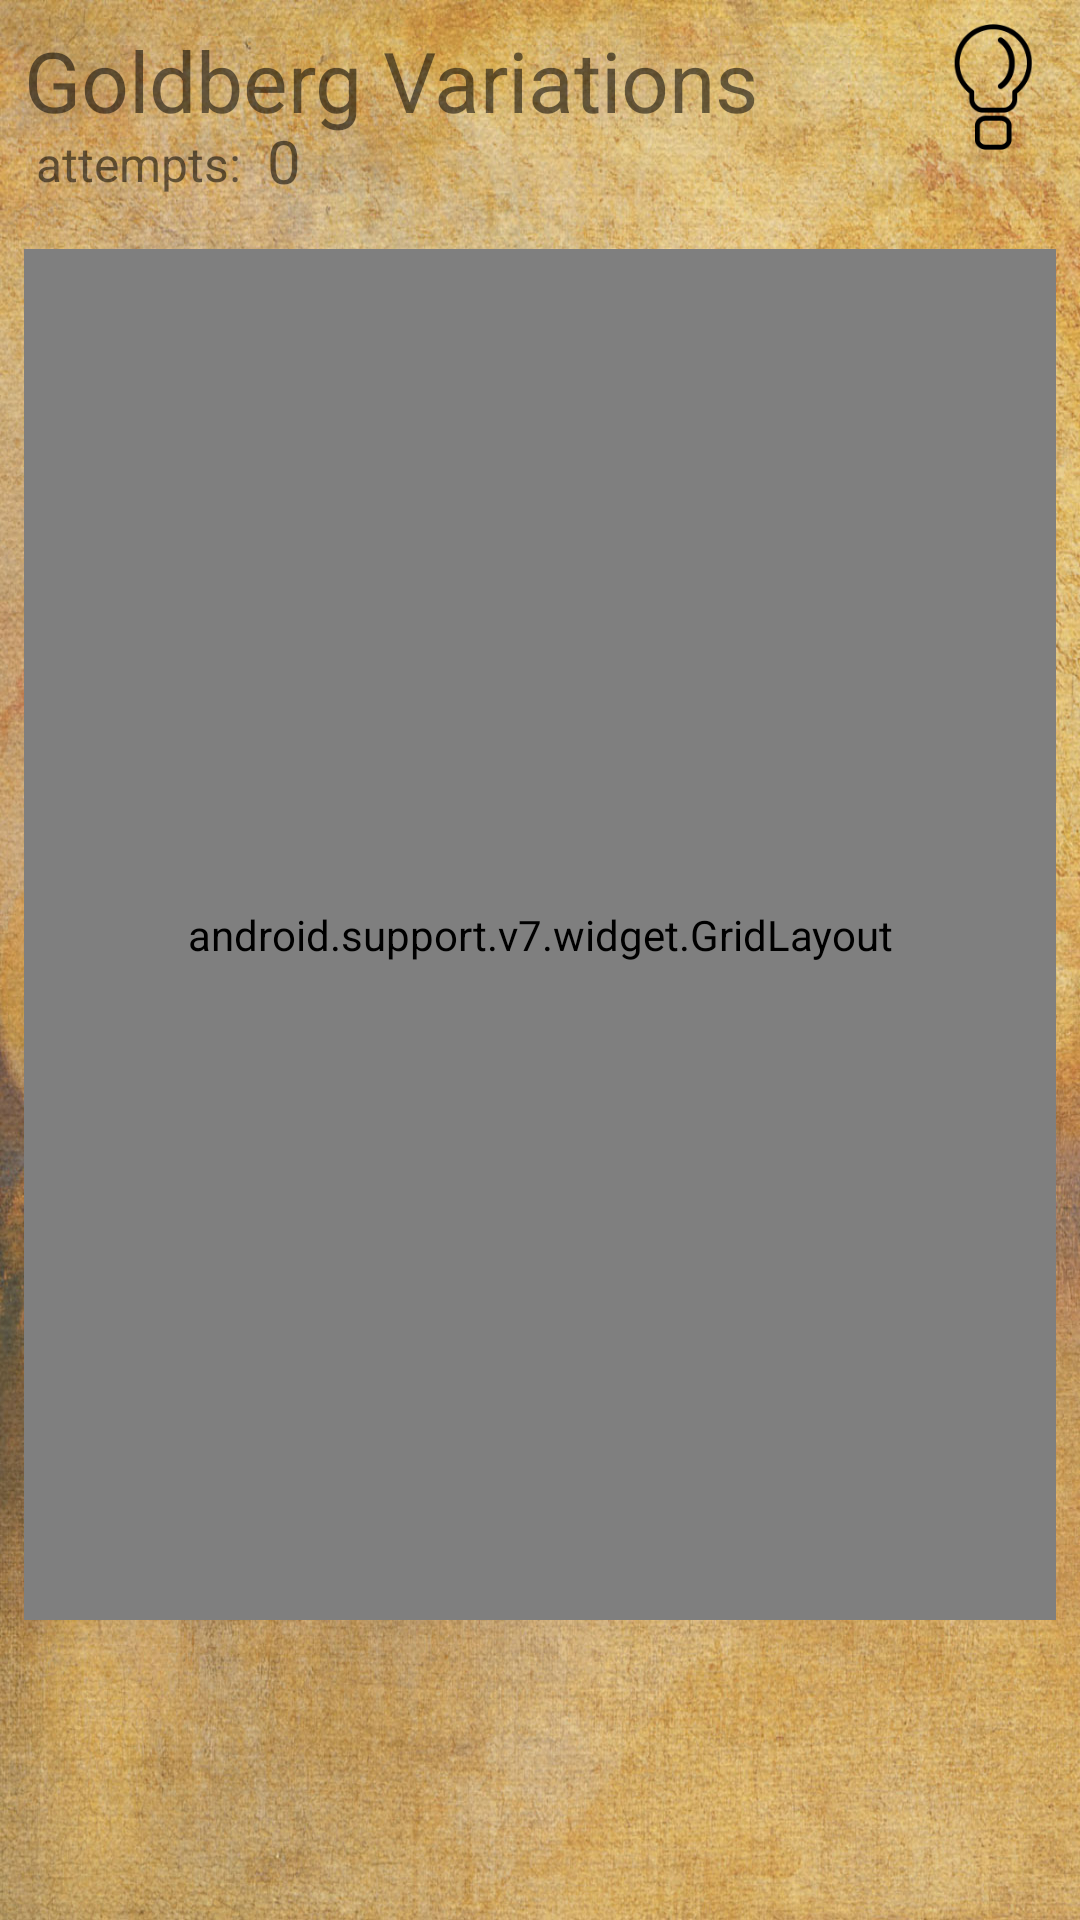

Screen size 1080 x 1920. Icon name, then its center in pixels as (x=x, y=y):
lamp: (x=993, y=87)
